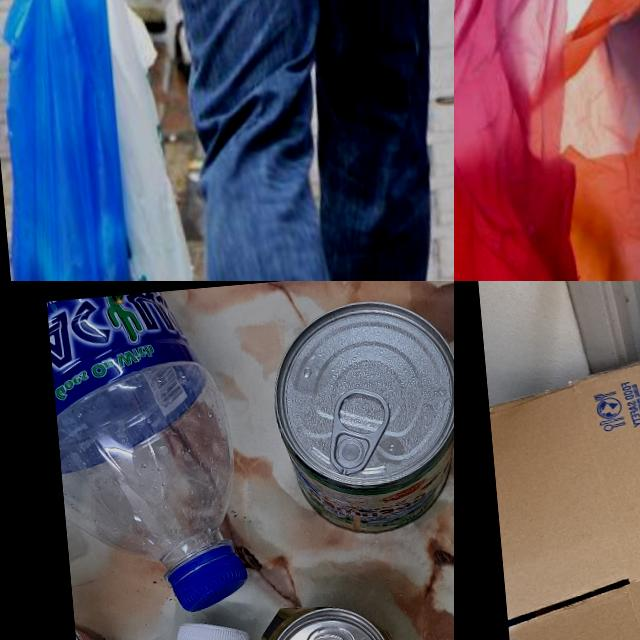aba de lata: (324, 386, 396, 476)
garrafa de vidro: (73, 613, 128, 640)
garrafa plástica: (46, 286, 242, 582)
lata: (265, 292, 454, 541), (254, 594, 422, 640)
papelão: (482, 287, 640, 640)
sacola plástica: (0, 0, 199, 281), (454, 0, 625, 281), (539, 0, 640, 281)
tampa plástica: (167, 546, 247, 614), (172, 617, 251, 640)
